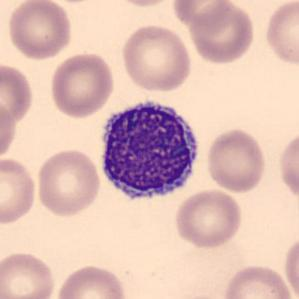Lymphocyte: (93, 92, 206, 209)
RBC: (118, 22, 194, 93), (34, 146, 103, 219), (48, 50, 116, 119), (187, 0, 257, 66), (172, 187, 244, 249), (204, 126, 268, 194), (4, 0, 74, 61), (0, 248, 57, 299), (221, 261, 295, 299), (53, 262, 129, 299), (0, 154, 38, 226), (262, 0, 298, 68), (0, 60, 36, 126), (171, 0, 232, 29), (277, 126, 298, 206), (0, 95, 18, 164), (282, 232, 299, 299), (106, 0, 179, 8)
